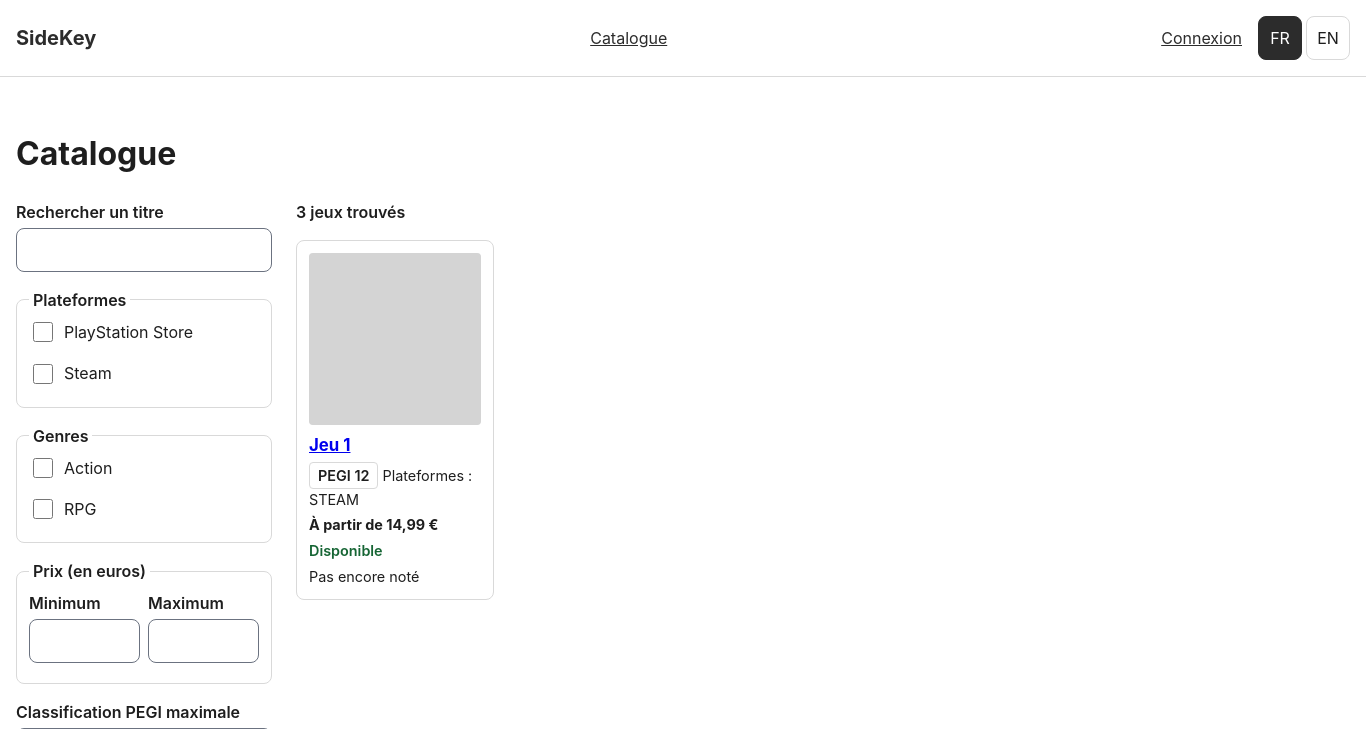
E02 — catalogue › annonce les résultats en anglais et traduit les tris
Expected: the text "3 jeux trouvés" is shown, [296,202,405,222]
Step 1. Click the button with aria-label "English" → (1328, 38), box [1306,16,1350,60]
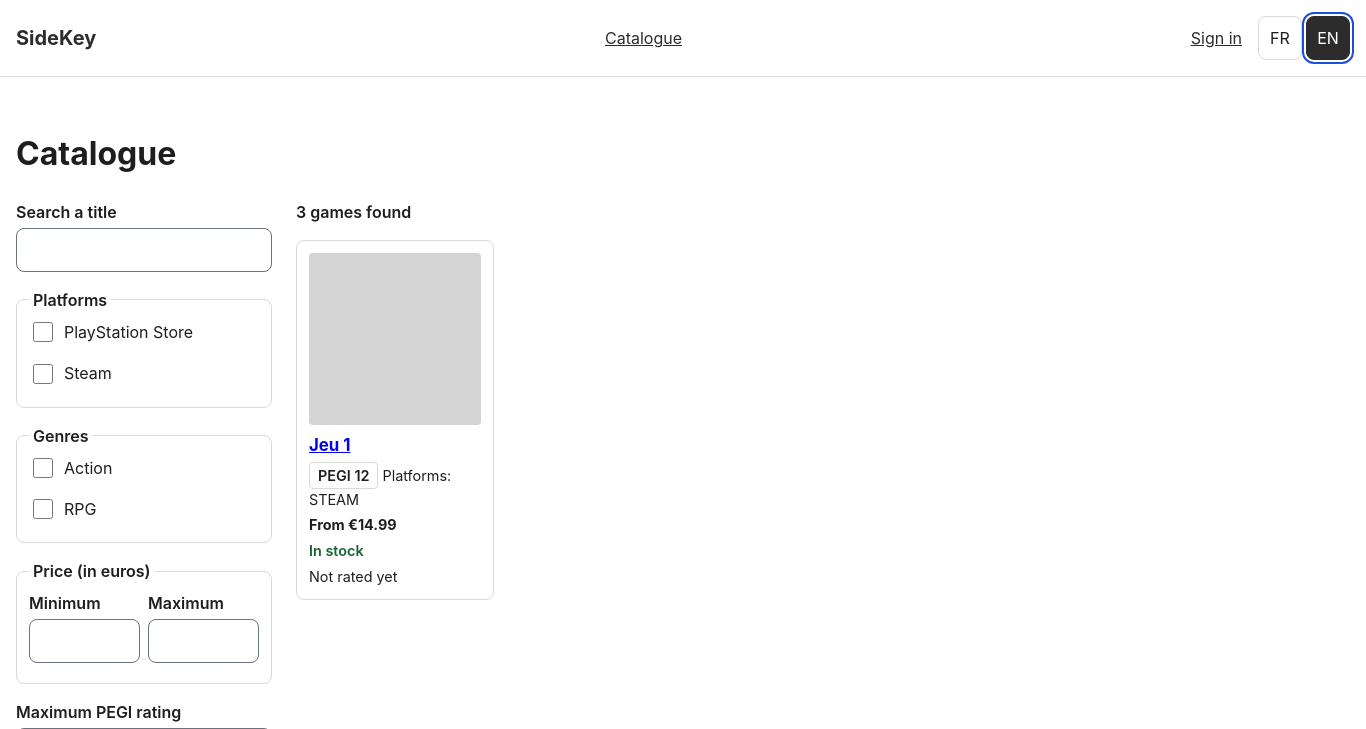
Result: the text "3 games found" is shown at [296,202,411,222]
Result: the text "From €14.99" is shown at [309,516,397,534]
